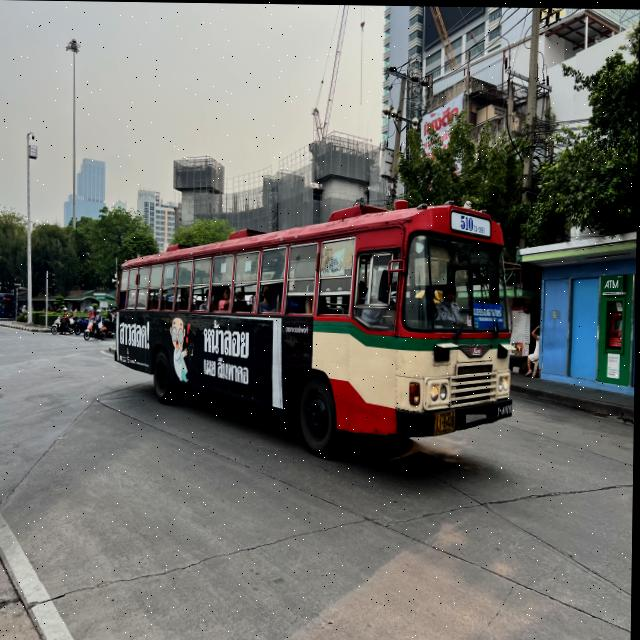BMTA-bus: (113, 199, 516, 462)
Bus-Line-Number: (459, 211, 487, 234)
Destination-Sign-Normal: (474, 301, 505, 327)
